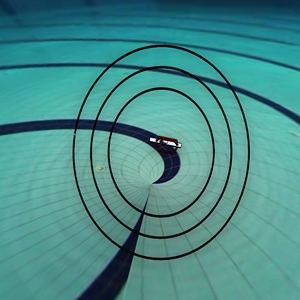circle: (61, 34, 262, 268)
submarine: (142, 128, 191, 165)
